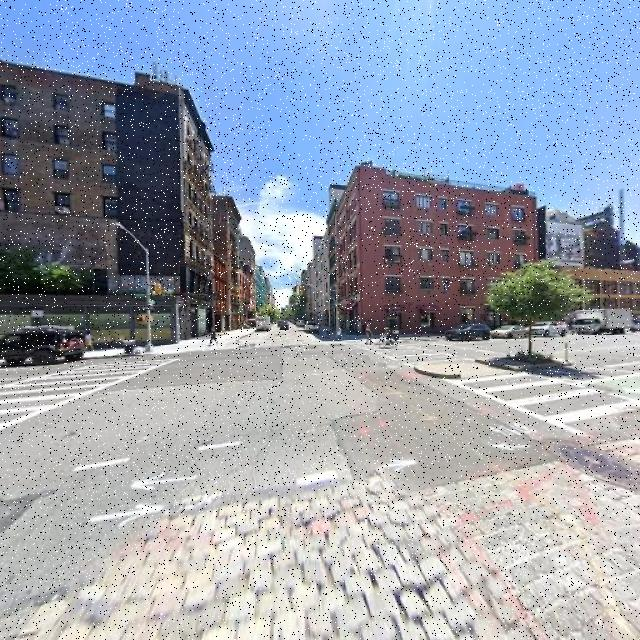Building: (339, 164, 539, 335), (1, 295, 185, 348), (189, 104, 212, 340)
